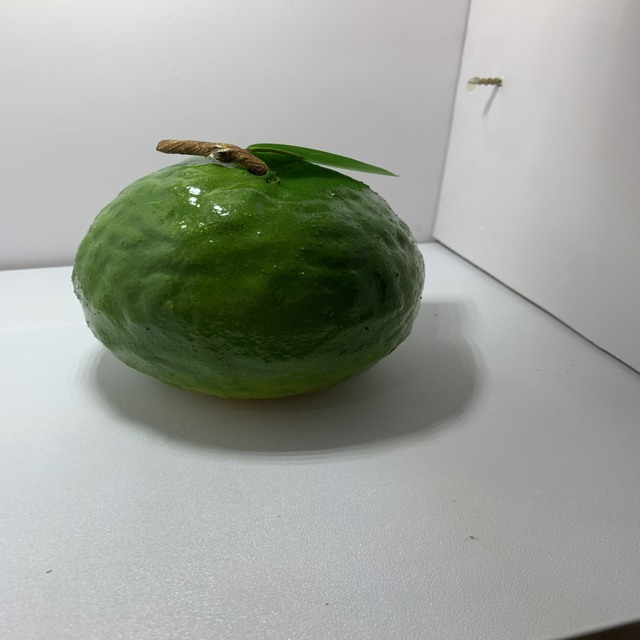Cam xanh: (67, 133, 427, 408)
